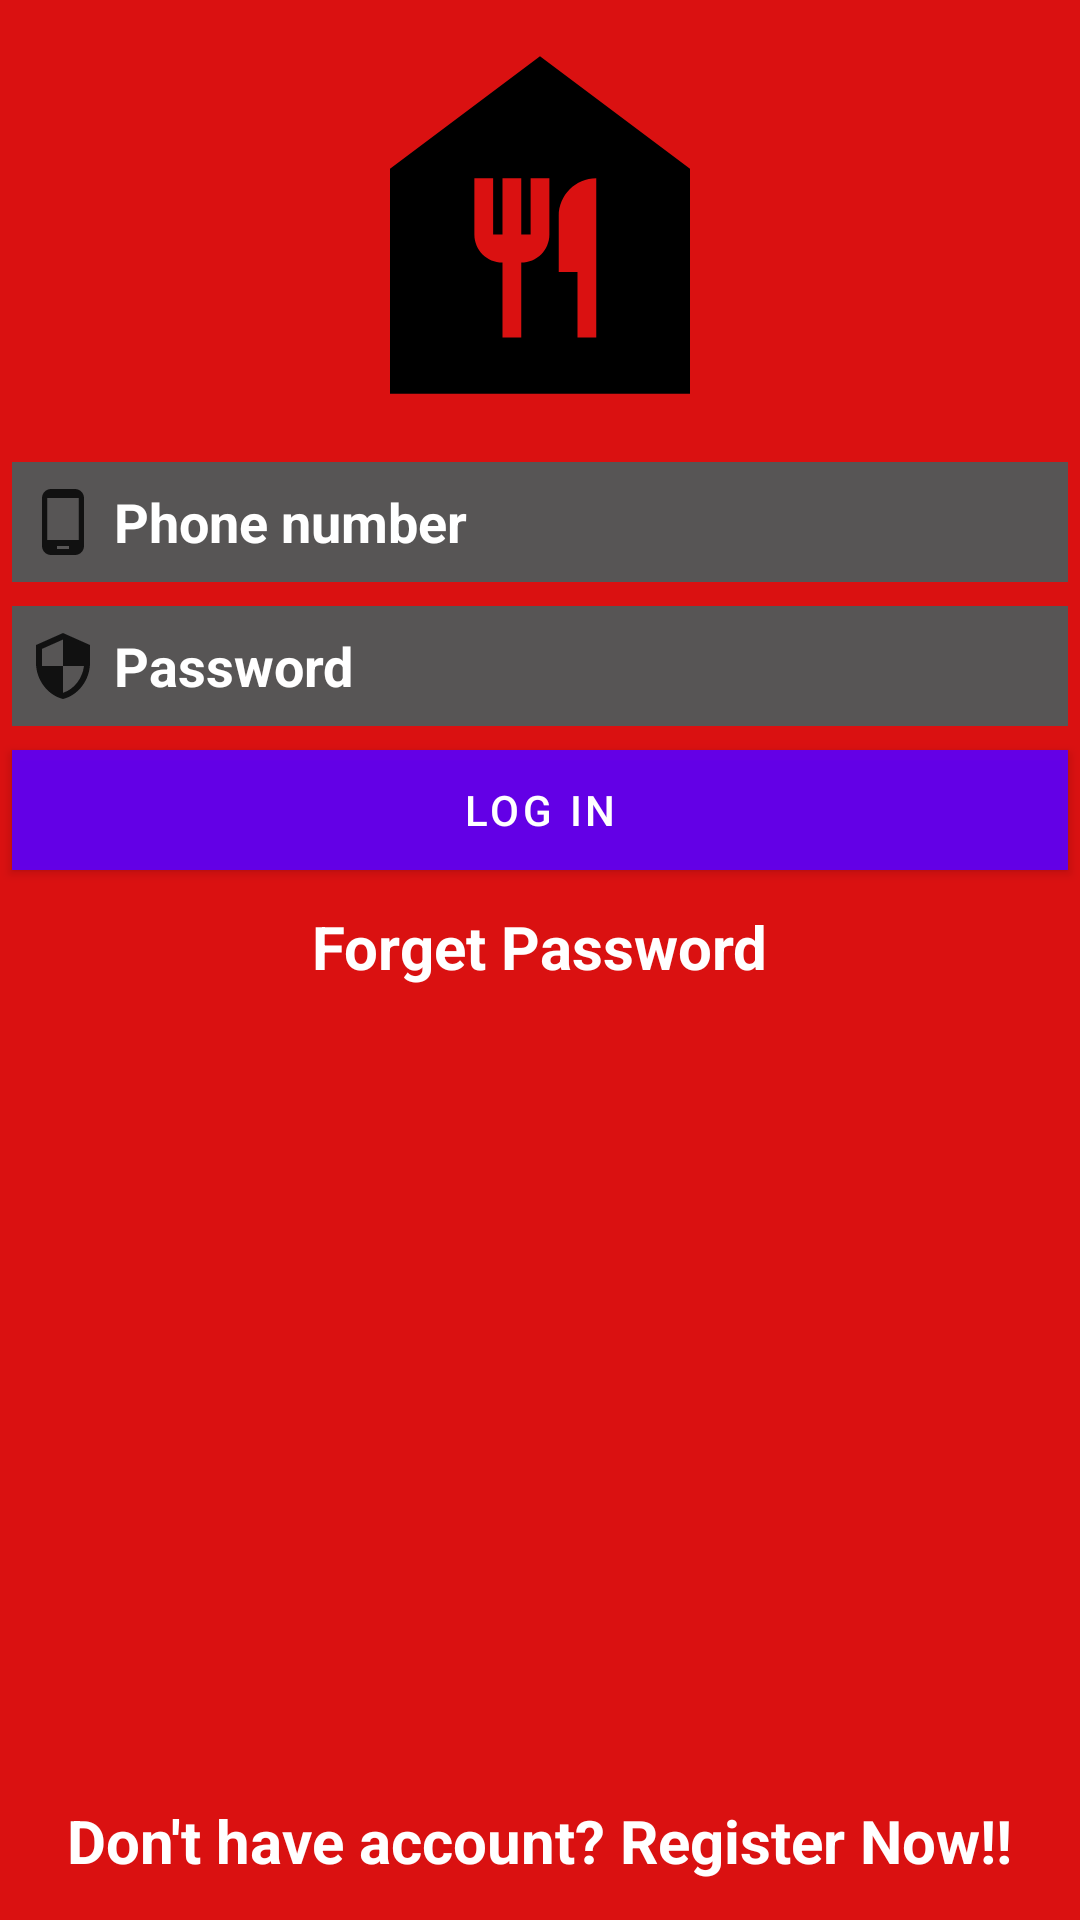

Screen size 1080px×1920px. Icon name, then its center in pixels as [x,y]:
food bank: [540,225]
